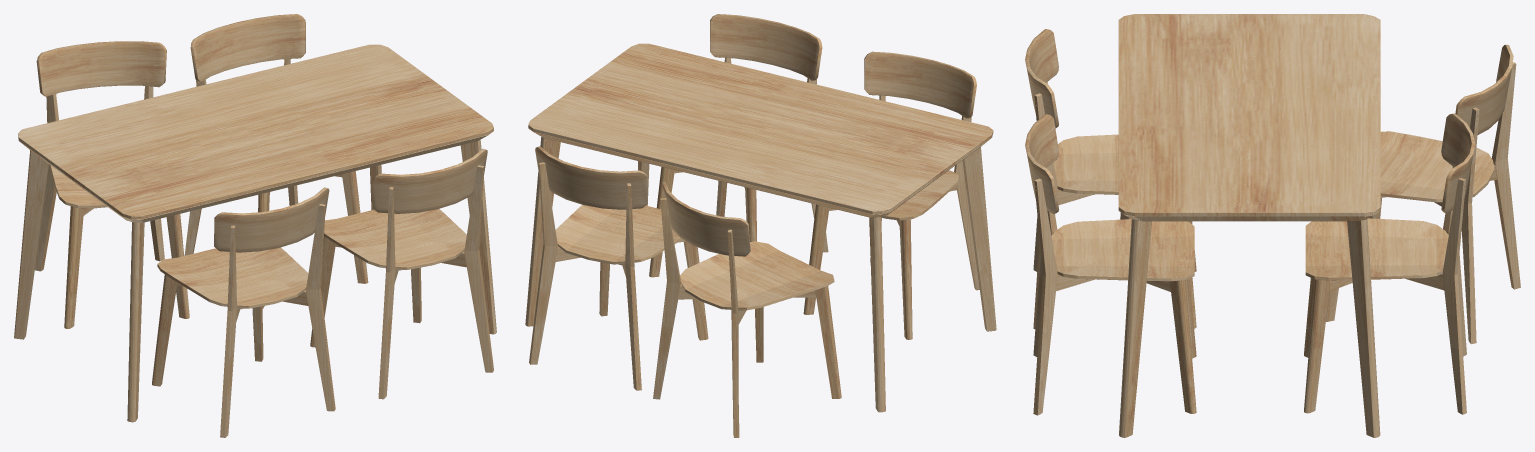
3 renders of one model, left to right at view 1: azimuth 30°, elevation 25°; view 2: azimuth 150°, elevation 25°; view 3: azimuth 270°, elevation 25°, orthographic. The views are drawn at different scales.
Visible parts, largest first — view 1: LISABO_by_IKEA__corona; view 2: LISABO_by_IKEA__corona; view 3: LISABO_by_IKEA__corona.
Part boxes in pixels (x1=…): LISABO_by_IKEA__corona: x1=14, y1=14, x2=496, y2=437; LISABO_by_IKEA__corona: x1=525, y1=14, x2=996, y2=437; LISABO_by_IKEA__corona: x1=1025, y1=14, x2=1520, y2=437.
Size of the model in its own units: 140 by 79.64 by 147.
1 material, 1 textured.
